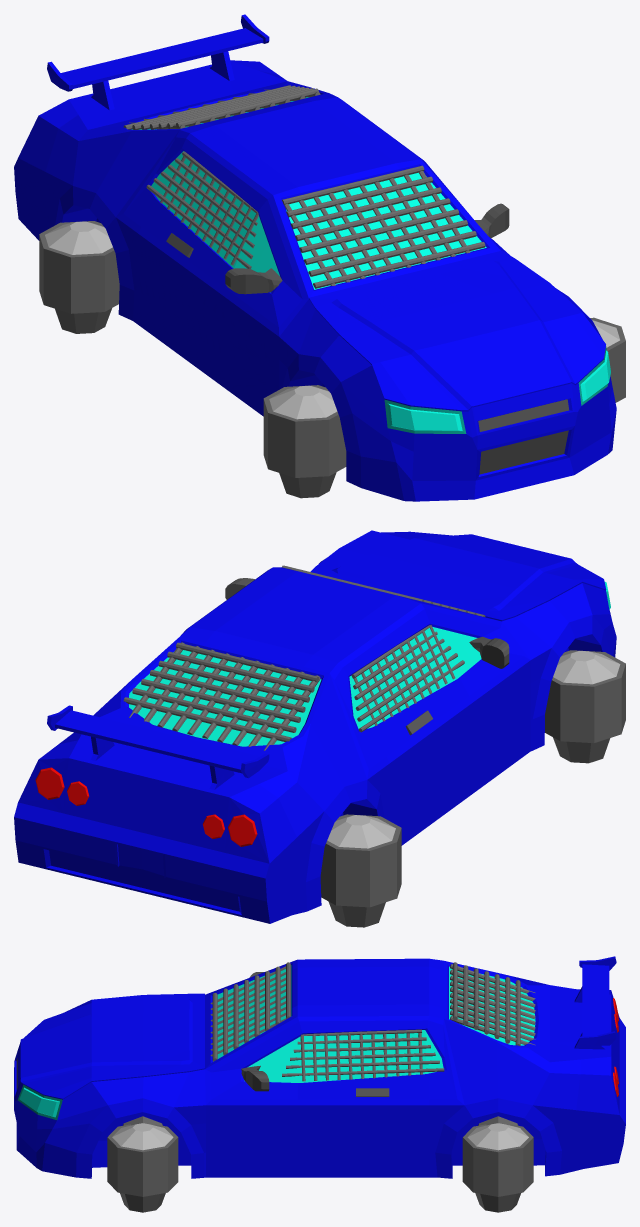
The model's file is SM_Player_Car_03 1.fbx.
3 views of the same model, one above another, from view 1: azimuth 30°, elevation 25°; view 2: azimuth 150°, elevation 25°; view 3: azimuth 270°, elevation 25° (orthographic). The views are drawn at different scales.
Parts seen in each view (by area): view 1: SM_Player_Car_03; view 2: SM_Player_Car_03; view 3: SM_Player_Car_03.
Boxes of the visible parts, left/top/right/bottom form: SM_Player_Car_03: left=14, top=14, right=625, bottom=501; SM_Player_Car_03: left=14, top=530, right=625, bottom=927; SM_Player_Car_03: left=14, top=956, right=625, bottom=1212.
Size of the model in its own units: 2.34 by 1.33 by 4.43.
